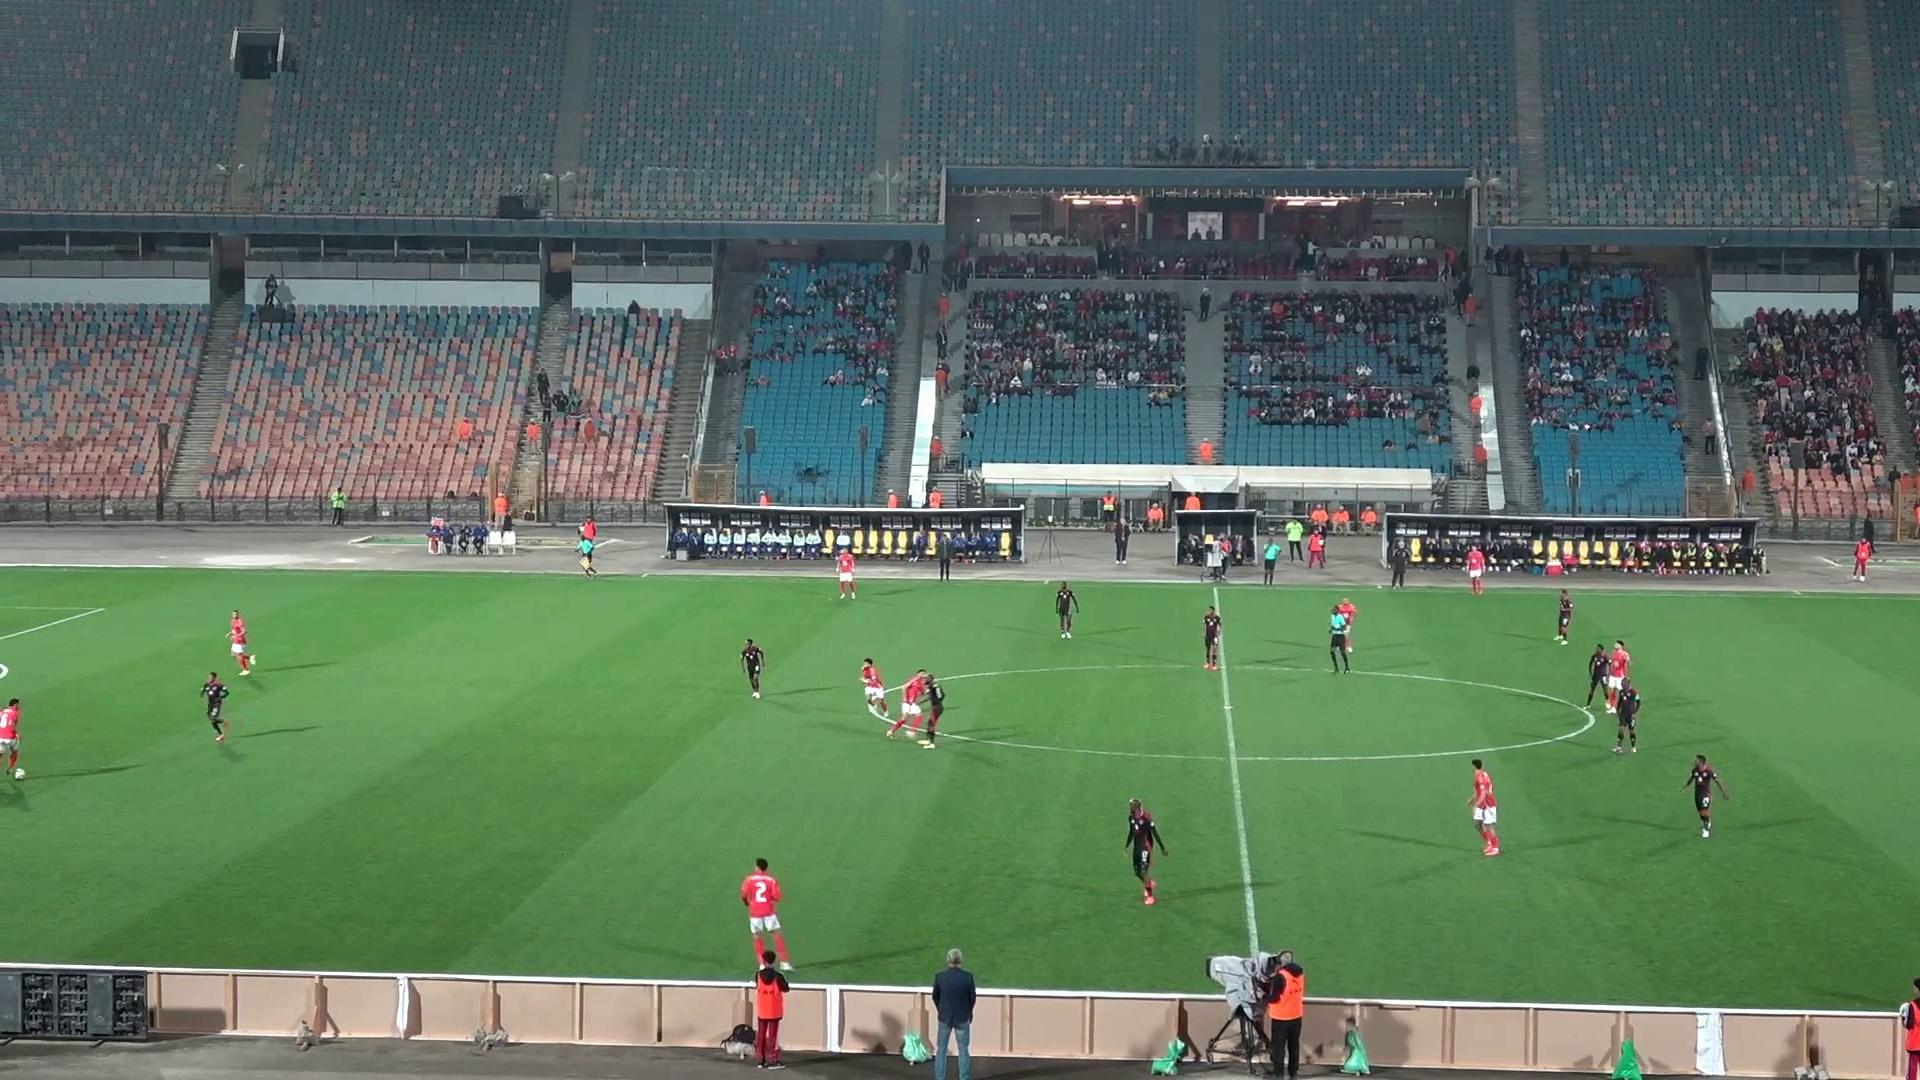Ball: (11, 769, 26, 781)
Refree: (1329, 599, 1354, 673), (579, 516, 596, 576), (1262, 534, 1282, 585)
Team1: (740, 858, 791, 969), (1466, 760, 1501, 855), (887, 670, 934, 737), (0, 698, 22, 779), (860, 658, 889, 720), (229, 609, 253, 673), (1607, 640, 1630, 704), (1464, 545, 1486, 595), (835, 546, 856, 599)
Team2: (1125, 798, 1164, 905), (1687, 754, 1729, 837), (1611, 679, 1640, 752), (200, 671, 228, 742), (920, 671, 945, 746), (1584, 644, 1609, 709), (740, 638, 764, 698), (1054, 582, 1077, 638), (1203, 605, 1222, 669), (1553, 588, 1575, 644)
